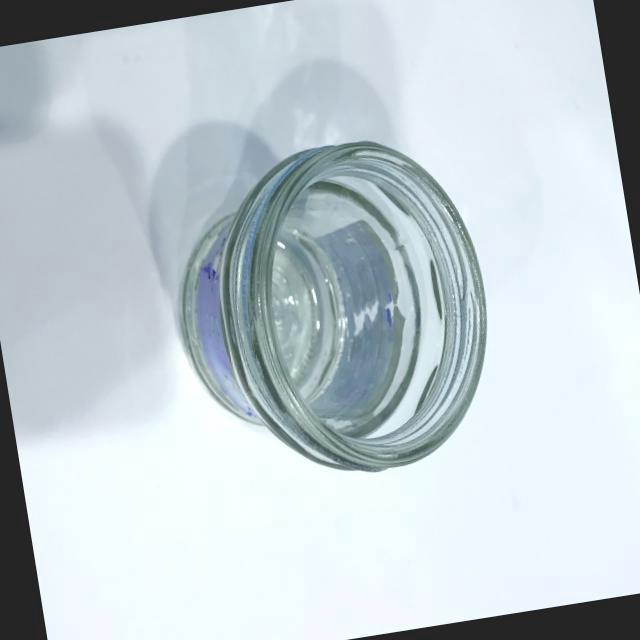glass: (108, 100, 536, 534)
